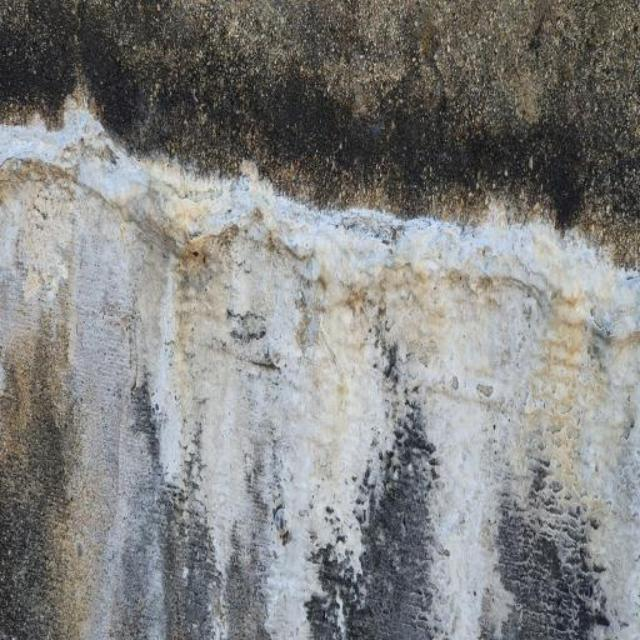D01: (14, 98, 639, 639)
